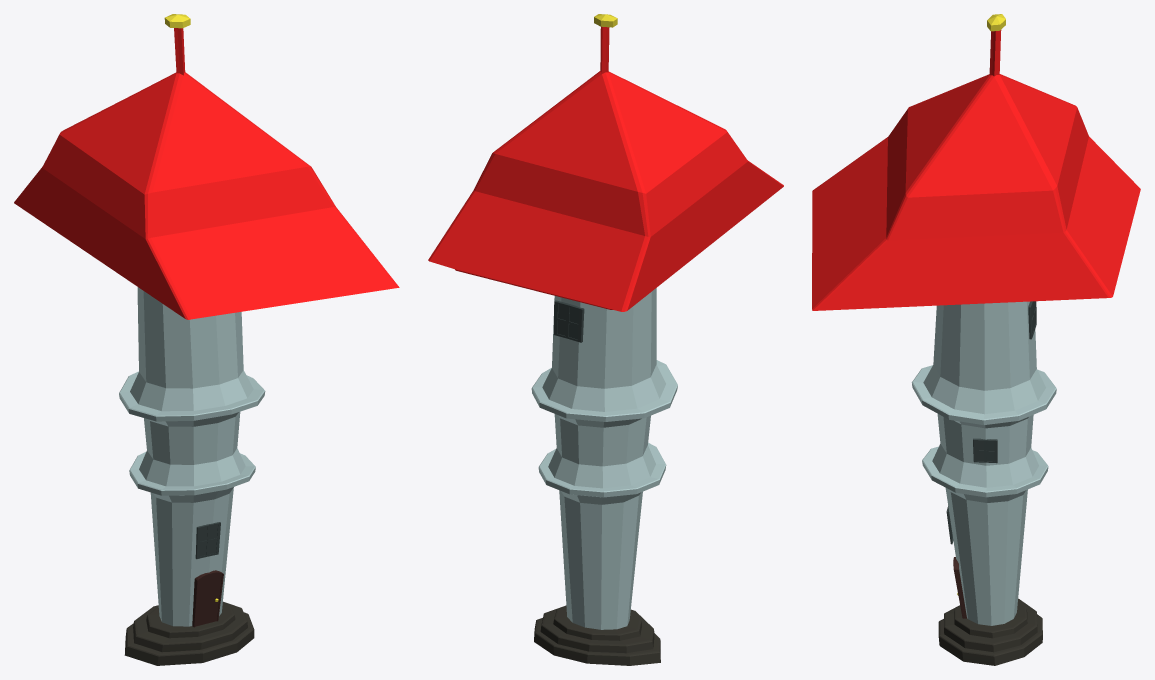
The model's file is tower_b.fbx.
The picture shows the model from 3 angles, left to right: view 1: azimuth 30°, elevation 25°; view 2: azimuth 150°, elevation 25°; view 3: azimuth 270°, elevation 25°; orthographic projection. The views are drawn at different scales.
Parts seen in each view (by area): view 1: tower_b; view 2: tower_b; view 3: tower_b.
Boxes of the visible parts, box(x1,y1,x2,y2) form: tower_b: box(14, 14, 399, 665); tower_b: box(428, 14, 783, 665); tower_b: box(812, 14, 1140, 665).
Size of the model in its own units: 80.87 by 220 by 106.
